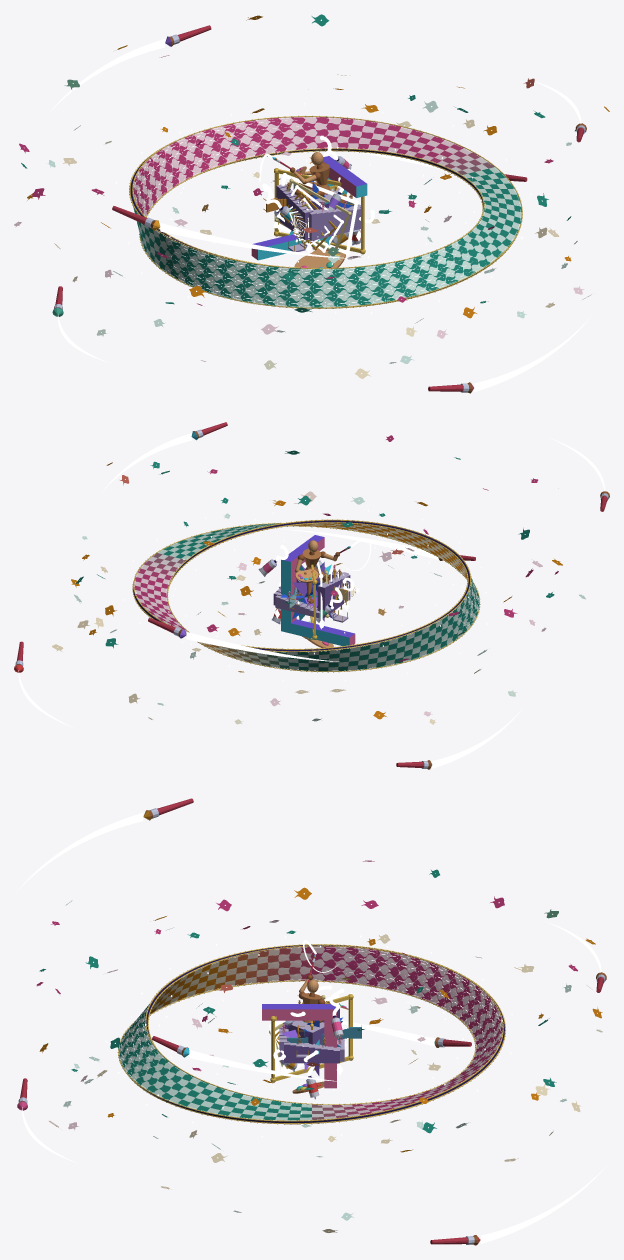
The model's file is mobius.glb.
The picture shows the model from 3 angles, top to bottom: view 1: azimuth 30°, elevation 25°; view 2: azimuth 150°, elevation 25°; view 3: azimuth 270°, elevation 25°; orthographic projection. The views are drawn at different scales.
Parts seen in each view (by area): view 1: mb_isle_floor, mb_spin_flock, mb_isle_rails, mb_spin_brushes_light, mb_glow_eyes, mb_float_stairs, mb_spin_droste, mb_spin_brushes, mb_spin_penrose, mb_spin_droste_light, mb_float_tubes, mb_float_painter (+1 smaller); view 2: mb_isle_floor, mb_spin_flock, mb_isle_rails, mb_spin_brushes_light, mb_spin_penrose, mb_float_stairs, mb_spin_brushes, mb_float_painter, mb_spin_star_3, mb_float_tubes; view 3: mb_isle_floor, mb_spin_flock, mb_isle_rails, mb_spin_brushes_light, mb_spin_penrose, mb_spin_brushes, mb_float_stairs, mb_float_painter, mb_spin_droste, mb_glow_eyes, mb_float_tubes.
Part boxes in pixels (x1,y1,x2,y2): mb_isle_floor: [130, 117, 521, 307]; mb_spin_flock: [14, 14, 609, 378]; mb_isle_rails: [129, 115, 522, 308]; mb_spin_brushes_light: [49, 39, 591, 391]; mb_glow_eyes: [134, 120, 479, 305]; mb_float_stairs: [276, 182, 360, 240]; mb_spin_droste: [274, 168, 365, 254]; mb_spin_brushes: [52, 25, 586, 393]; mb_spin_penrose: [251, 156, 367, 260]; mb_spin_droste_light: [273, 173, 358, 255]; mb_float_tubes: [274, 156, 360, 268]; mb_float_painter: [272, 152, 340, 209]; mb_isle_floor: [133, 520, 479, 671]; mb_spin_flock: [52, 435, 585, 724]; mb_isle_rails: [132, 519, 480, 672]; mb_spin_brushes_light: [18, 433, 605, 768]; mb_spin_penrose: [281, 535, 355, 646]; mb_float_stairs: [273, 564, 350, 618]; mb_spin_brushes: [14, 422, 609, 769]; mb_float_painter: [295, 540, 350, 603]; mb_spin_star_3: [279, 562, 332, 621]; mb_float_tubes: [258, 559, 343, 647]; mb_isle_floor: [119, 944, 504, 1123]; mb_spin_flock: [36, 860, 602, 1232]; mb_isle_rails: [117, 944, 505, 1124]; mb_spin_brushes_light: [15, 813, 607, 1243]; mb_spin_penrose: [262, 1004, 336, 1088]; mb_spin_brushes: [17, 798, 606, 1245]; mb_float_stairs: [279, 1000, 344, 1063]; mb_float_painter: [288, 954, 348, 1044]; mb_spin_droste: [269, 994, 353, 1082]; mb_glow_eyes: [121, 949, 501, 1077]; mb_float_tubes: [281, 1015, 343, 1099].
Size of what is drawn, in the model's own units: 195 by 76.33 by 191.
